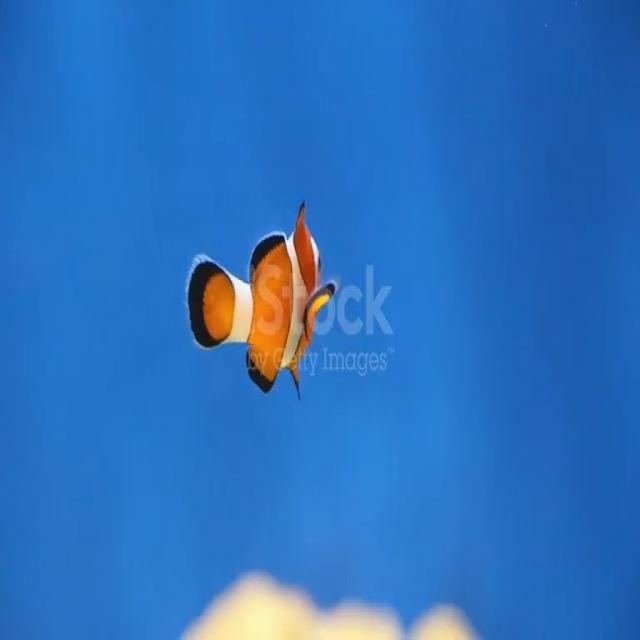fish: (183, 188, 343, 410)
